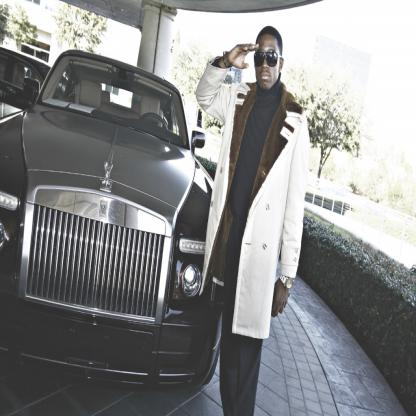Car: (0, 49, 224, 392), (0, 51, 69, 113)
